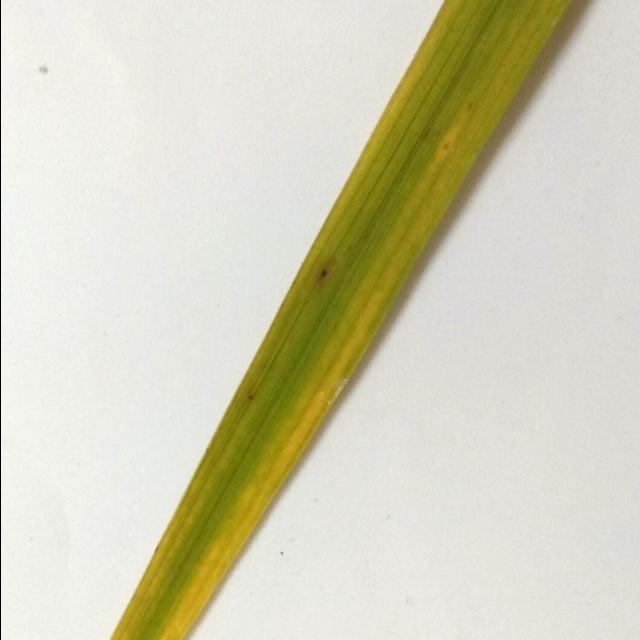Brown spot: (94, 0, 596, 640)
